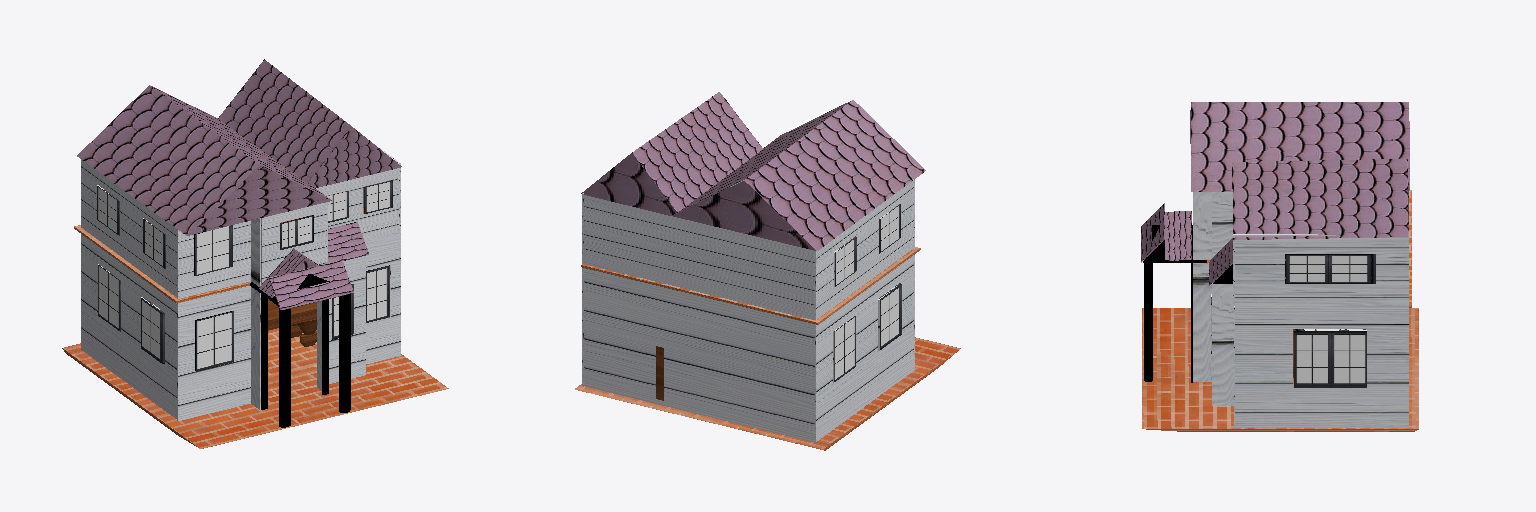
3 renders of one model, left to right at view 1: azimuth 30°, elevation 25°; view 2: azimuth 150°, elevation 25°; view 3: azimuth 270°, elevation 25°, orthographic.
Parts seen in each view (by area): view 1: pCube240; view 2: pCube240; view 3: pCube240.
Boxes of the visible parts, <box> form: pCube240: <box>62,59,448,448</box>; pCube240: <box>575,92,960,450</box>; pCube240: <box>1141,102,1418,431</box>.
Size of the model in its own units: 6.52 by 6.7 by 6.34.
Materials: 31 (10 with a texture image).